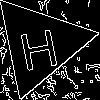H: (15, 19, 61, 72)
